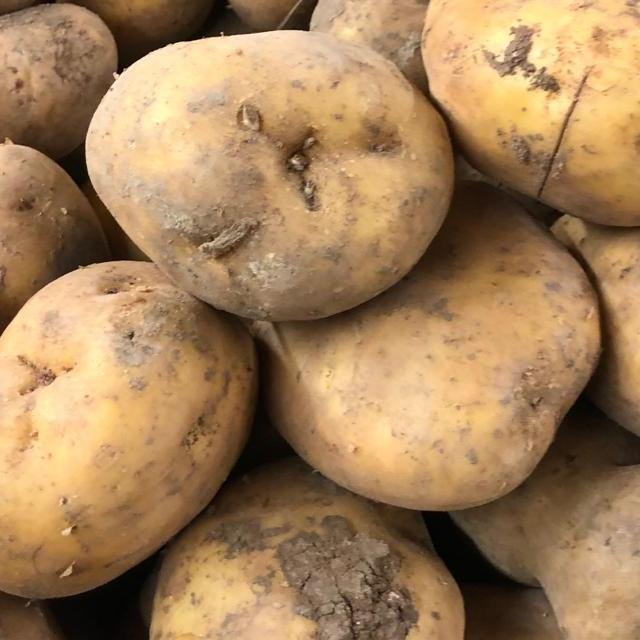potato: (88, 22, 462, 330), (0, 252, 270, 607), (417, 0, 640, 210)
